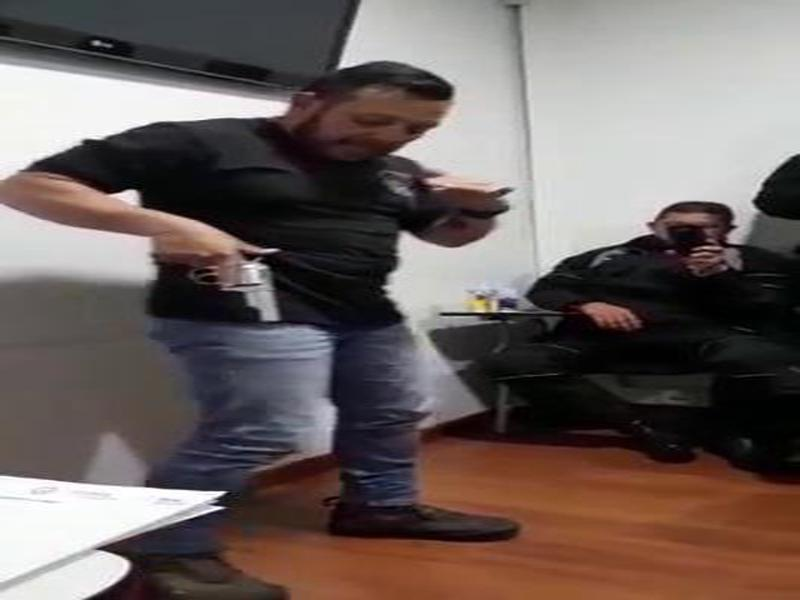Revolver: (181, 213, 300, 342)
